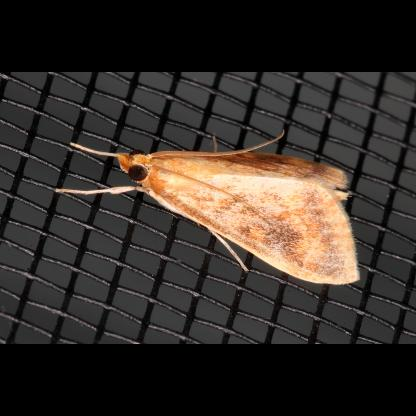Asian Corn Borer Moth: (54, 127, 364, 288)
